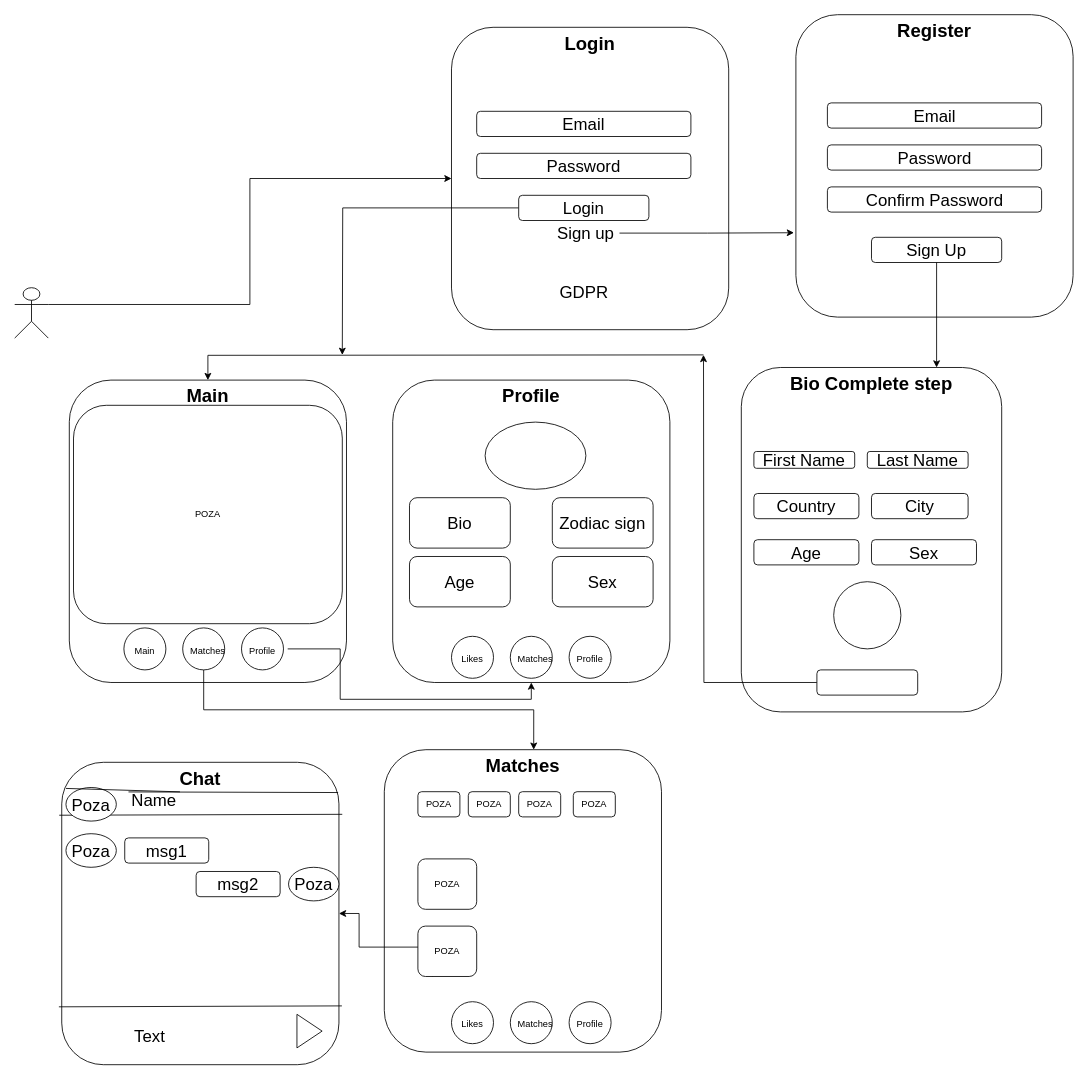
Some shapes in this 1088 by 1079 pixel diagram are drawn without their labels. Here are the shapes that lost their labels. From the top down, the centre of each, then its label:
point 31,312: Actor
point 535,455: Picture
point 867,615: Zodiac
point 867,682: Complete
